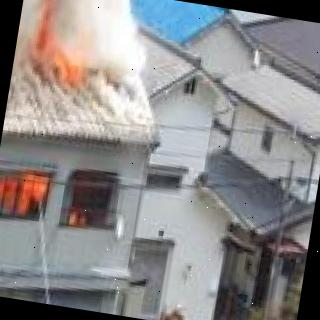fire: (0, 166, 116, 239), (17, 2, 102, 94)
